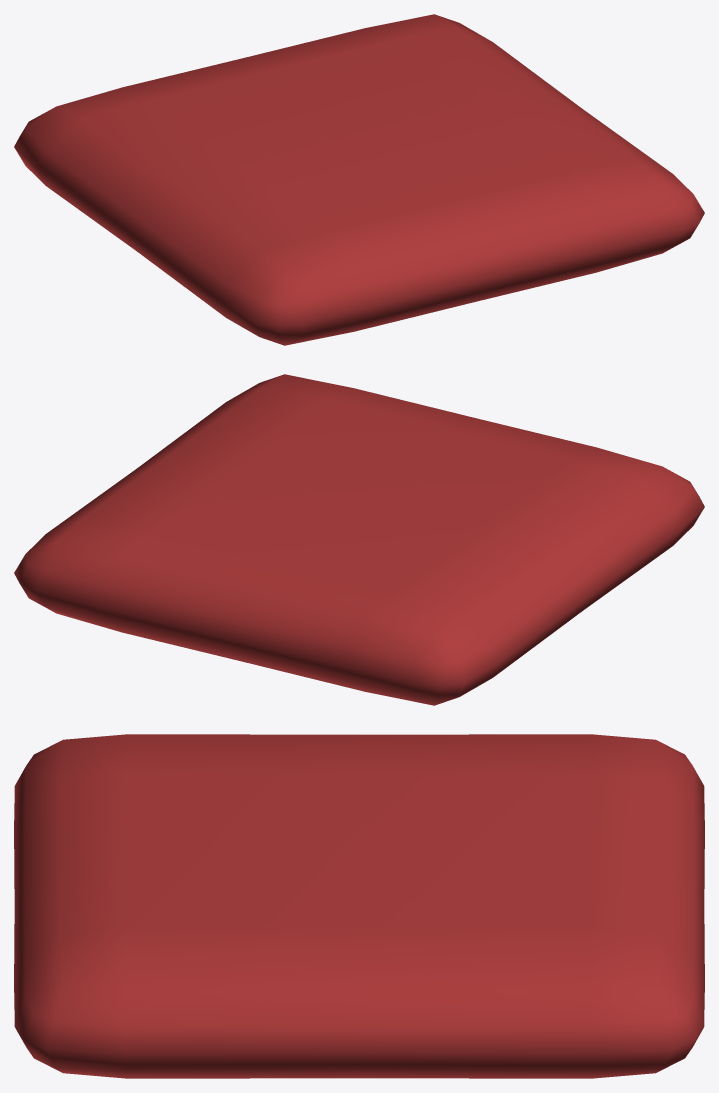
File: st2_cushion_01_low.fbx
The picture shows the model from 3 angles, top to bottom: view 1: azimuth 30°, elevation 25°; view 2: azimuth 150°, elevation 25°; view 3: azimuth 270°, elevation 25°; orthographic projection. The views are drawn at different scales.
Visible parts, largest first — view 1: st2_cushion_01_low; view 2: st2_cushion_01_low; view 3: st2_cushion_01_low.
Part boxes in pixels (x1=…): st2_cushion_01_low: x1=14, y1=14, x2=704, y2=345; st2_cushion_01_low: x1=14, y1=374, x2=704, y2=705; st2_cushion_01_low: x1=14, y1=734, x2=704, y2=1078.
Size of the model in its own units: 222 by 39.52 by 221.
